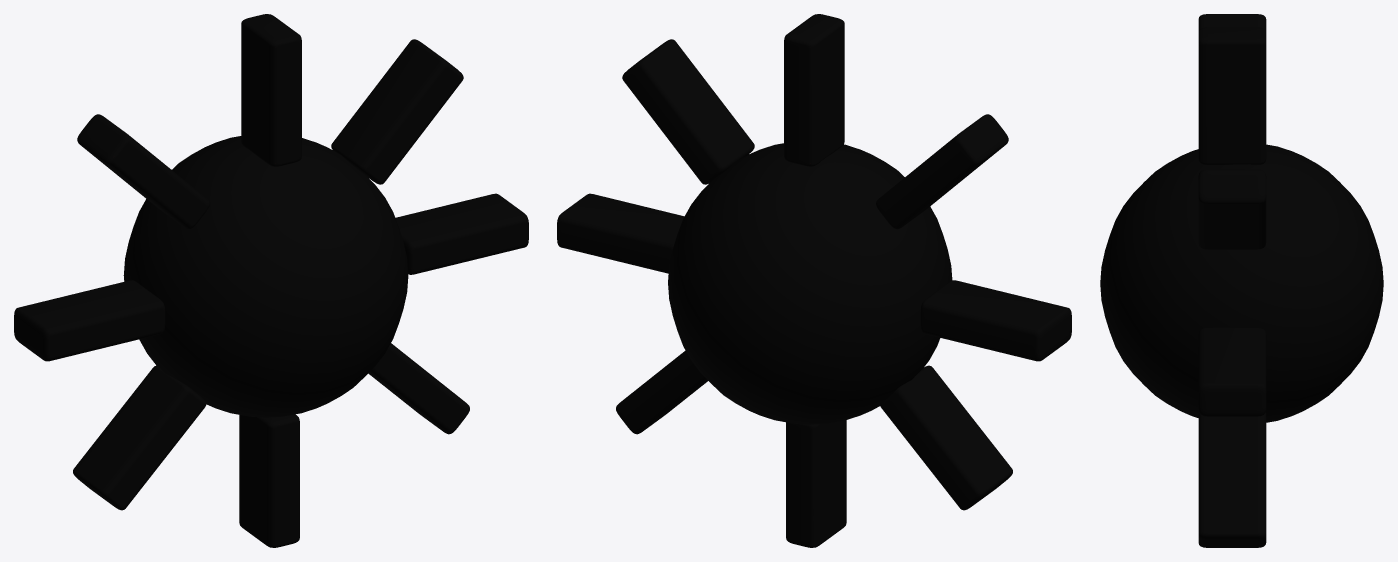
Rendered from Sun_Vijay.glb.
The picture shows the model from 3 angles, left to right: view 1: azimuth 30°, elevation 25°; view 2: azimuth 150°, elevation 25°; view 3: azimuth 270°, elevation 25°; orthographic projection.
Visible parts, largest first — view 1: node_id186, node_id215, node_id213, node_id211, node_id221, node_id219, node_id200, node_id217, node_id223; view 2: node_id186, node_id215, node_id213, node_id211, node_id221, node_id219, node_id200, node_id217, node_id223; view 3: node_id186, node_id211, node_id223, node_id200, node_id215, node_id217.
Boxes of the visible parts, x1=… form: node_id186: x1=123, y1=136, x2=408, y2=417; node_id215: x1=331, y1=39, x2=463, y2=184; node_id213: x1=73, y1=365, x2=206, y2=510; node_id211: x1=241, y1=14, x2=301, y2=166; node_id221: x1=14, y1=280, x2=165, y2=361; node_id219: x1=239, y1=414, x2=299, y2=547; node_id200: x1=395, y1=193, x2=528, y2=274; node_id217: x1=77, y1=114, x2=209, y2=229; node_id223: x1=368, y1=343, x2=469, y2=434; node_id186: x1=668, y1=143, x2=952, y2=424; node_id215: x1=622, y1=39, x2=754, y2=184; node_id213: x1=880, y1=365, x2=1012, y2=510; node_id211: x1=784, y1=14, x2=844, y2=166; node_id221: x1=920, y1=280, x2=1071, y2=361; node_id219: x1=786, y1=420, x2=846, y2=547; node_id200: x1=557, y1=193, x2=684, y2=273; node_id217: x1=876, y1=114, x2=1008, y2=229; node_id223: x1=616, y1=350, x2=707, y2=434; node_id186: x1=1100, y1=144, x2=1383, y2=422; node_id211: x1=1198, y1=27, x2=1266, y2=164; node_id223: x1=1198, y1=412, x2=1266, y2=547; node_id200: x1=1198, y1=327, x2=1266, y2=416; node_id215: x1=1198, y1=169, x2=1266, y2=249; node_id217: x1=1198, y1=14, x2=1266, y2=32.
Size of the model in its own units: 1.01 by 1.01 by 0.512.
2 materials, 2 textured.
